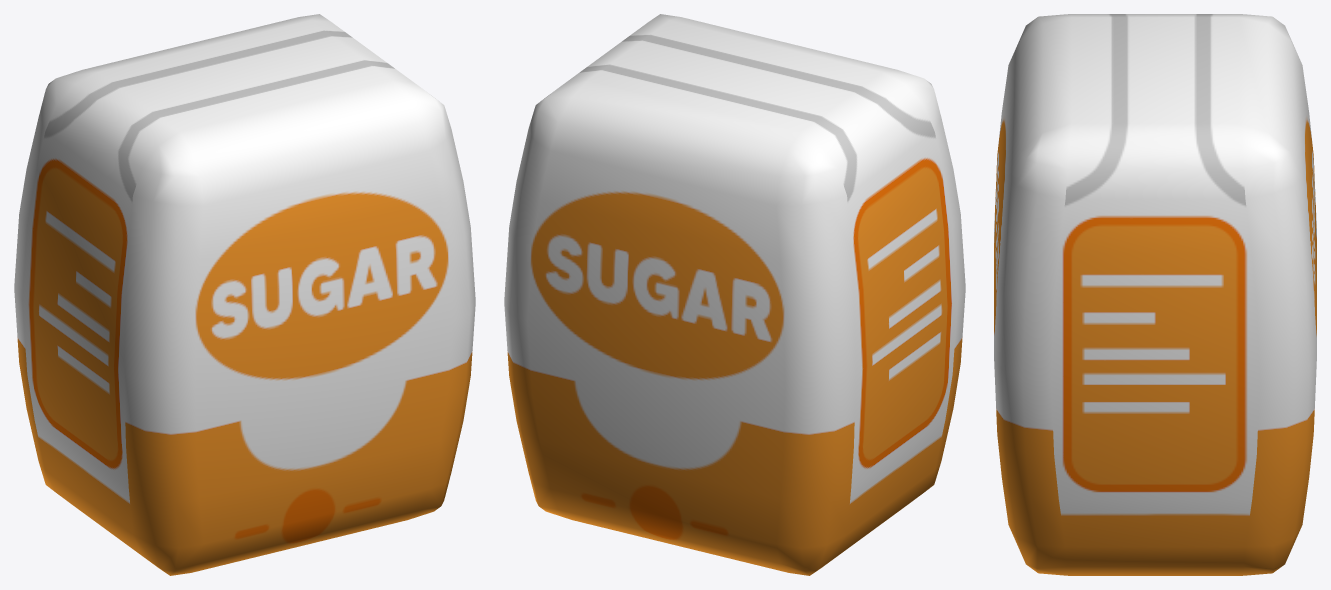
Rendered from Sugar.fbx.
3 renders of one model, left to right at view 1: azimuth 30°, elevation 25°; view 2: azimuth 150°, elevation 25°; view 3: azimuth 270°, elevation 25°, orthographic. The views are drawn at different scales.
Parts seen in each view (by area): view 1: Sugar; view 2: Sugar; view 3: Sugar.
Boxes of the visible parts, x1,y1,x2,y2 form: Sugar: [14, 14, 475, 575]; Sugar: [504, 14, 965, 575]; Sugar: [994, 14, 1316, 575].
Bounding box in the file's own units: 28.7 × 34.92 × 22.76.
